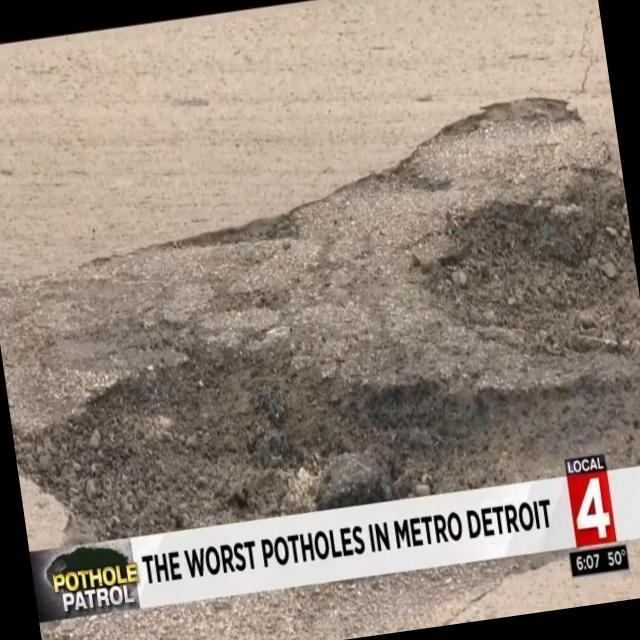Pothole: (0, 107, 640, 509)
